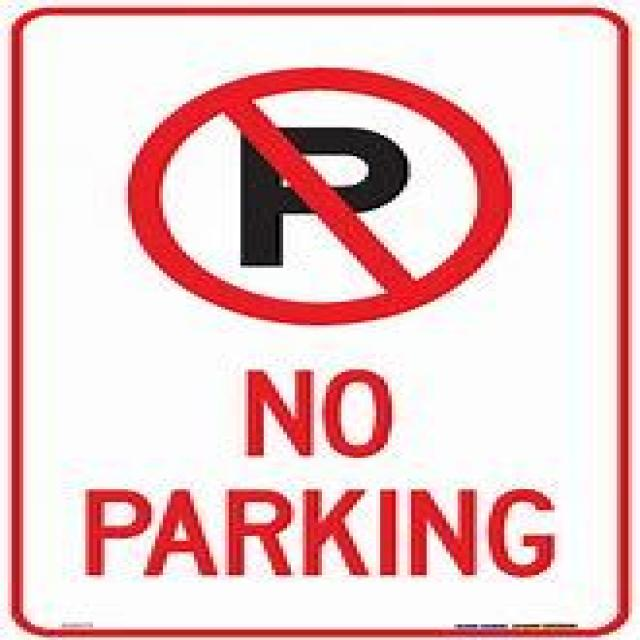do_not_enter: (124, 68, 512, 325)
